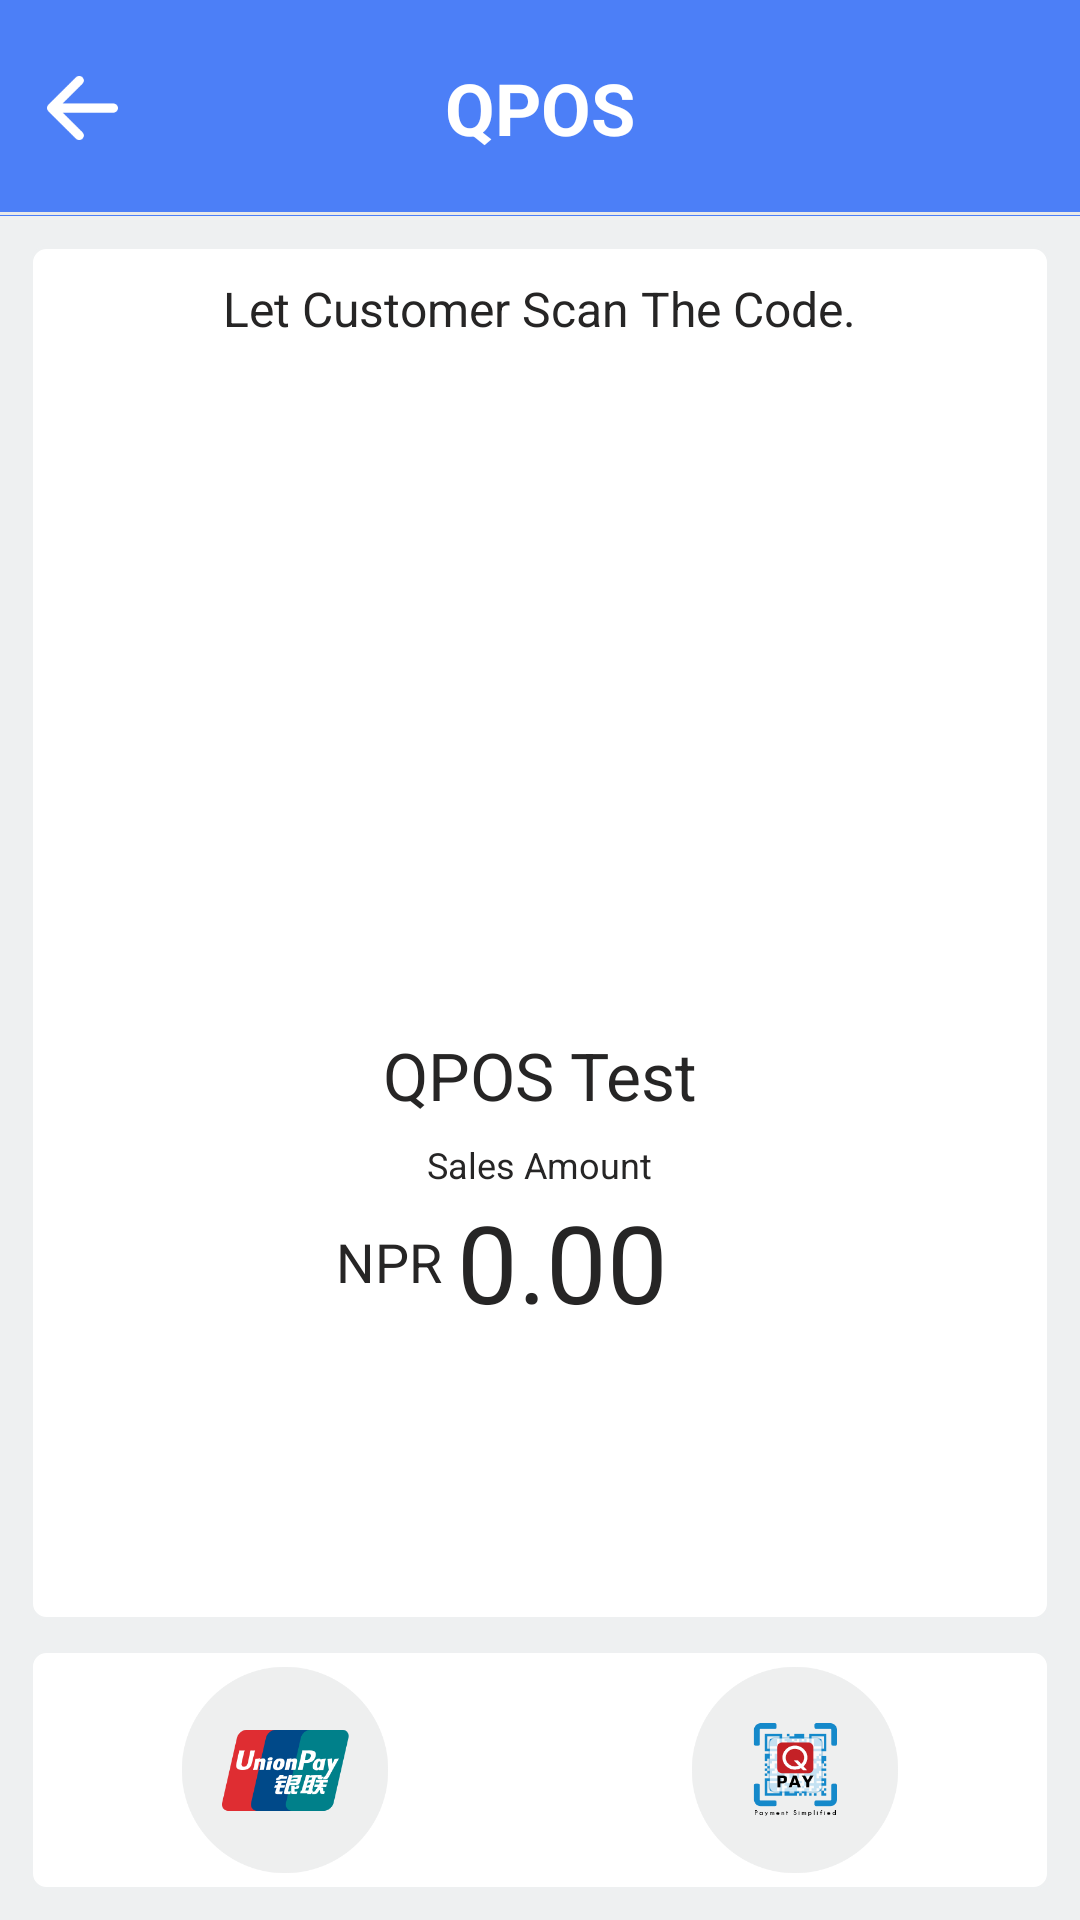

Named icons in this screenshot (1080 x 1920) and their centers, [x,y]:
back: [82,108]
